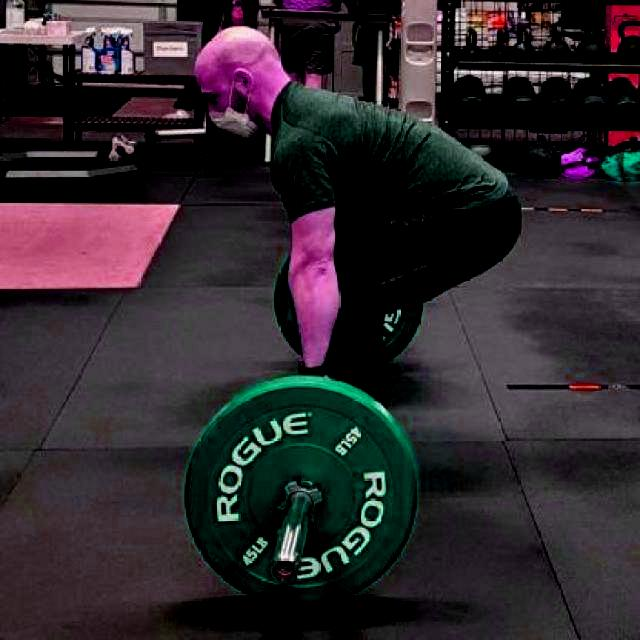barbell: (183, 380, 420, 619)
